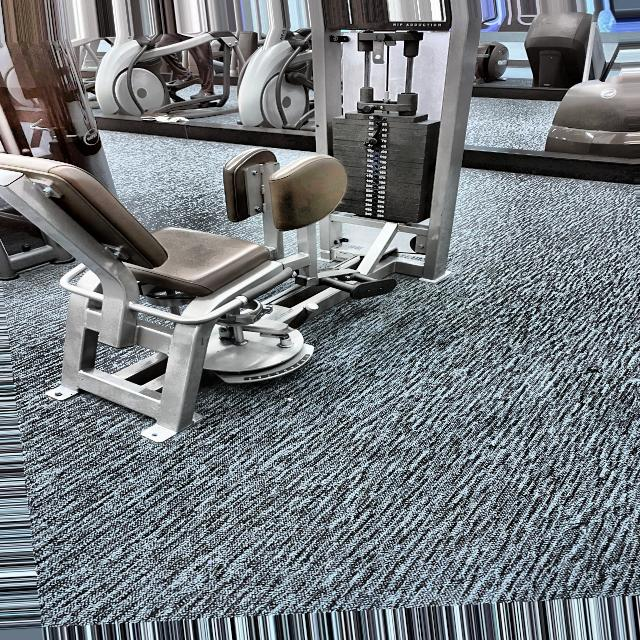hip_adduction_machine: (4, 90, 314, 430), (212, 134, 359, 350), (392, 22, 446, 29)
